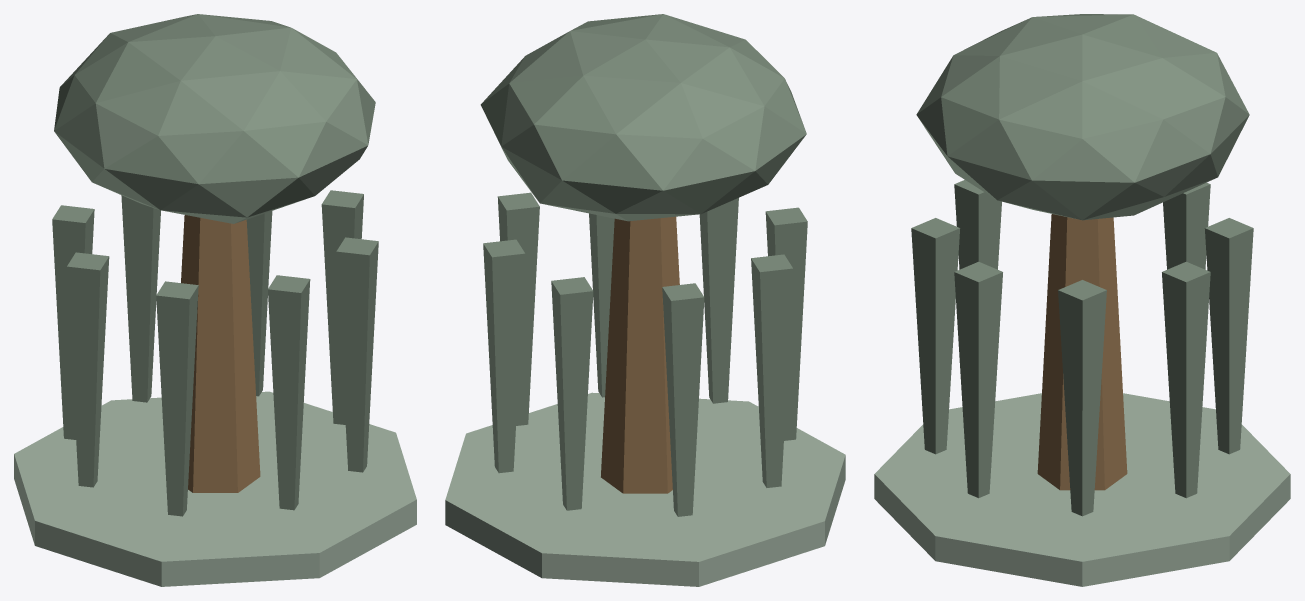
File: graveyard-g1.glb
The picture shows the model from 3 angles, left to right: view 1: azimuth 30°, elevation 25°; view 2: azimuth 150°, elevation 25°; view 3: azimuth 270°, elevation 25°; orthographic projection.
Visible parts, largest first — view 1: graveyard-g1; view 2: graveyard-g1; view 3: graveyard-g1.
Boxes of the visible parts, left/top/right/bottom form: graveyard-g1: left=14, top=14, right=416, bottom=586; graveyard-g1: left=445, top=14, right=845, bottom=586; graveyard-g1: left=874, top=14, right=1290, bottom=586.
Bounding box in the file's own units: 0.9 × 1.11 × 0.9.
